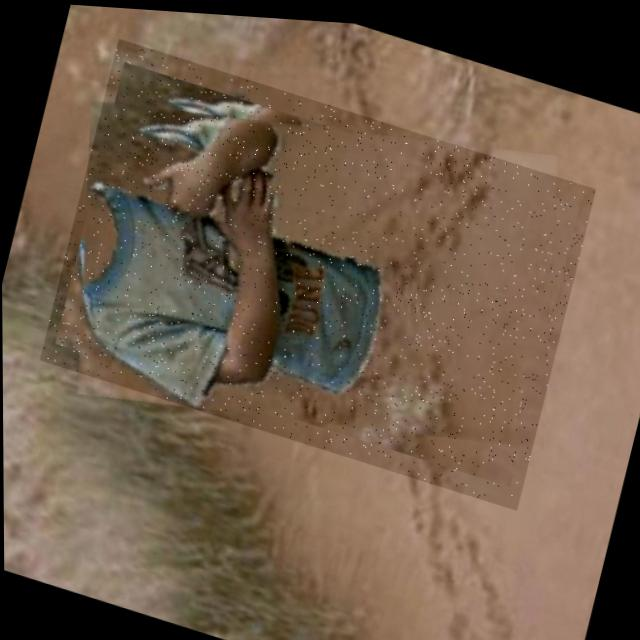Person in Rubble: (37, 31, 597, 507)
